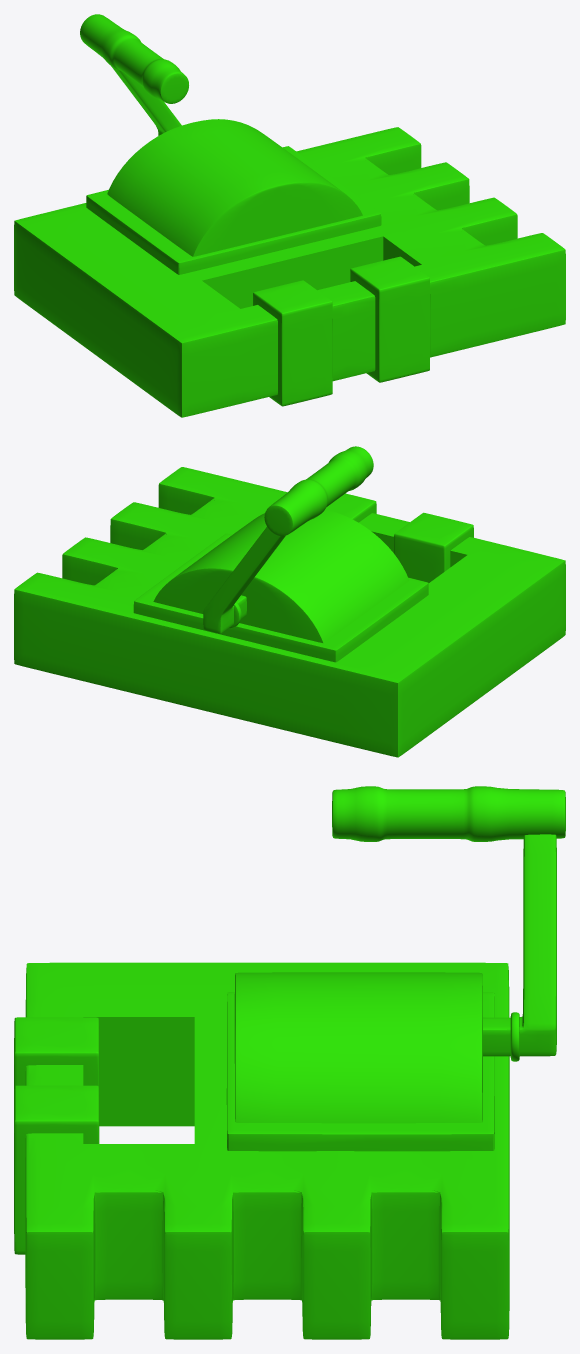
Rendered from Control_train_low 1.fbx.
The picture shows the model from 3 angles, top to bottom: view 1: azimuth 30°, elevation 25°; view 2: azimuth 150°, elevation 25°; view 3: azimuth 270°, elevation 25°; orthographic projection. The views are drawn at different scales.
Parts seen in each view (by area): view 1: Cube.001, Cylinder.001, Circle.001; view 2: Cube.001, Cylinder.001, Circle.001; view 3: Cube.001, Cylinder.001, Circle.001.
Part boxes in pixels (bbox=[...]): Cube.001: bbox=[14, 127, 565, 417]; Cylinder.001: bbox=[107, 119, 362, 256]; Circle.001: bbox=[80, 14, 188, 135]; Cube.001: bbox=[14, 467, 565, 757]; Cylinder.001: bbox=[153, 509, 408, 643]; Circle.001: bbox=[203, 446, 373, 633]; Cube.001: bbox=[14, 962, 509, 1339]; Cylinder.001: bbox=[234, 972, 482, 1123]; Circle.001: bbox=[332, 786, 565, 1061].
Bounding box in the file's own units: 21.11 × 13.32 × 18.23.
